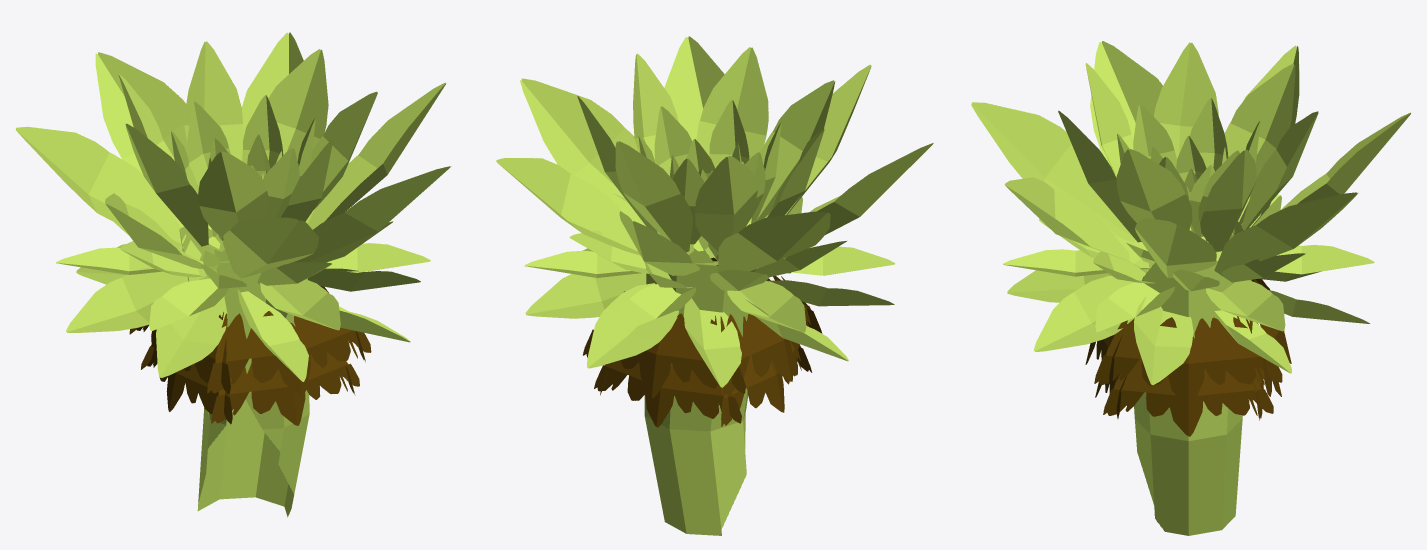
The model's file is Frailejon.fbx.
The picture shows the model from 3 angles, left to right: view 1: azimuth 30°, elevation 25°; view 2: azimuth 150°, elevation 25°; view 3: azimuth 270°, elevation 25°; orthographic projection.
Parts seen in each view (by area): view 1: Cube.008; view 2: Cube.008; view 3: Cube.008.
Boxes of the visible parts, x1,y1,x2,y2 form: Cube.008: (16,32,451,517); Cube.008: (496,36,933,535); Cube.008: (971,41,1410,535).
Bounding box in the file's own units: 143 × 153 × 144.
